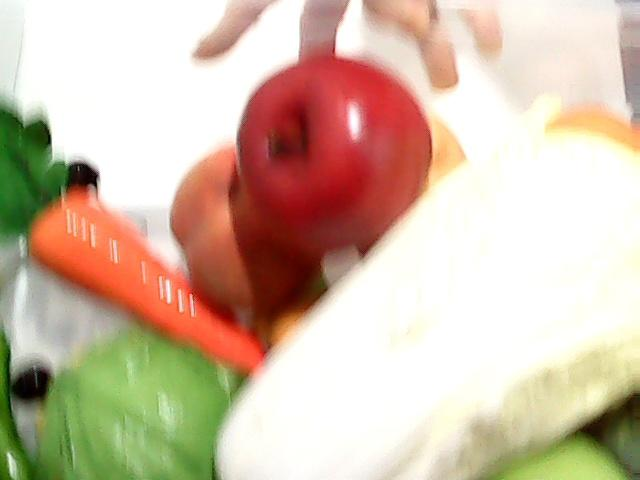apple: (228, 61, 428, 251), (466, 428, 630, 480)
cabbage: (39, 338, 244, 480)
carrot: (0, 92, 266, 374)
lemon: (538, 100, 640, 152)
mango: (267, 301, 313, 351)
napa cabbage: (229, 134, 639, 480)
peach: (171, 140, 327, 316), (170, 152, 264, 328)
potato: (359, 104, 469, 258)
